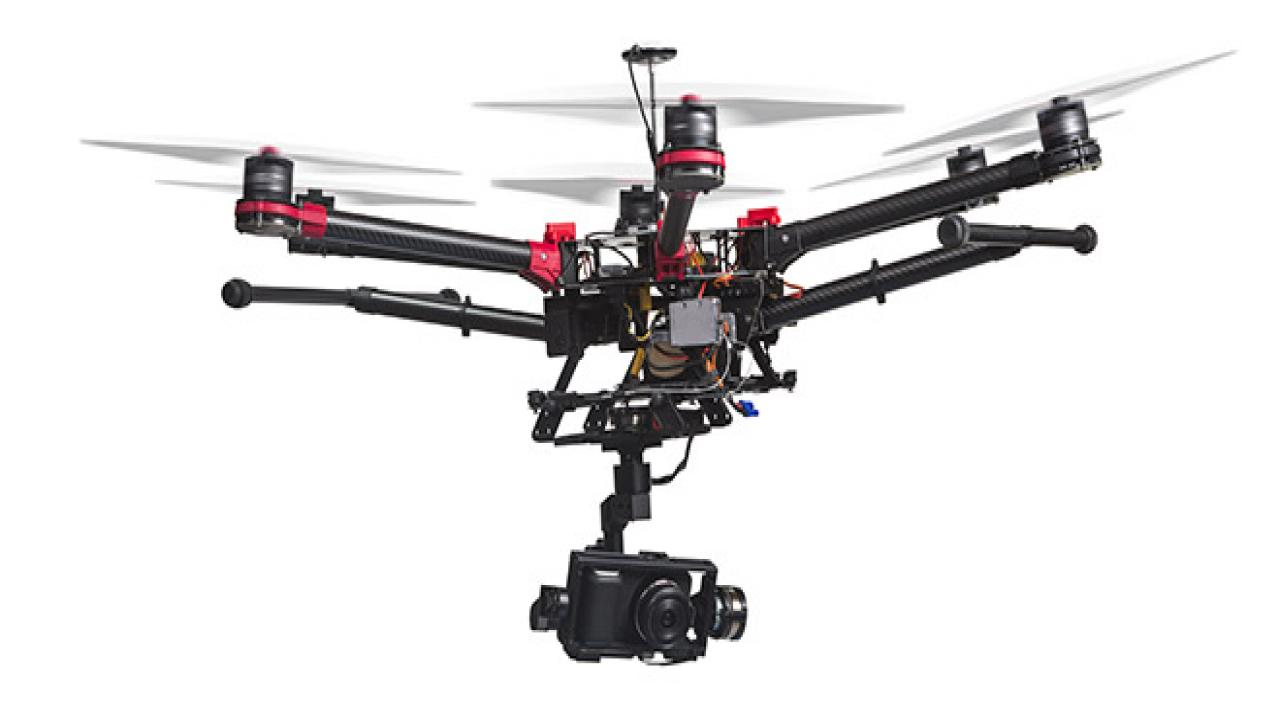Drone: (78, 33, 1240, 677)
